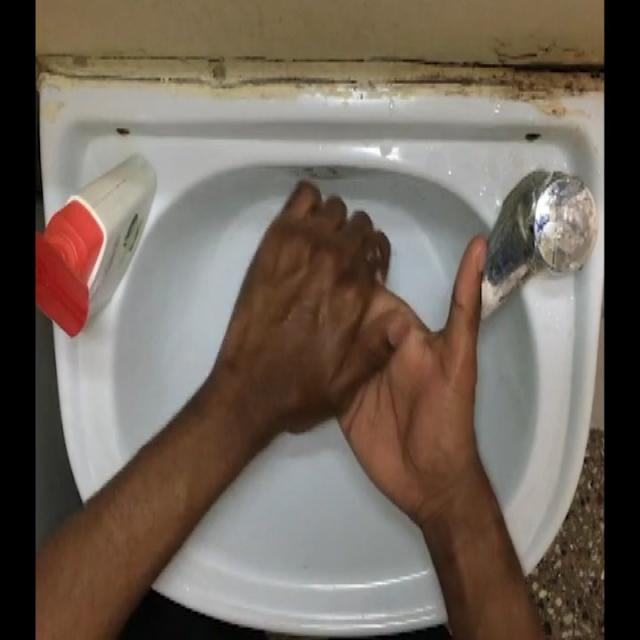step_5: (229, 172, 496, 522)
